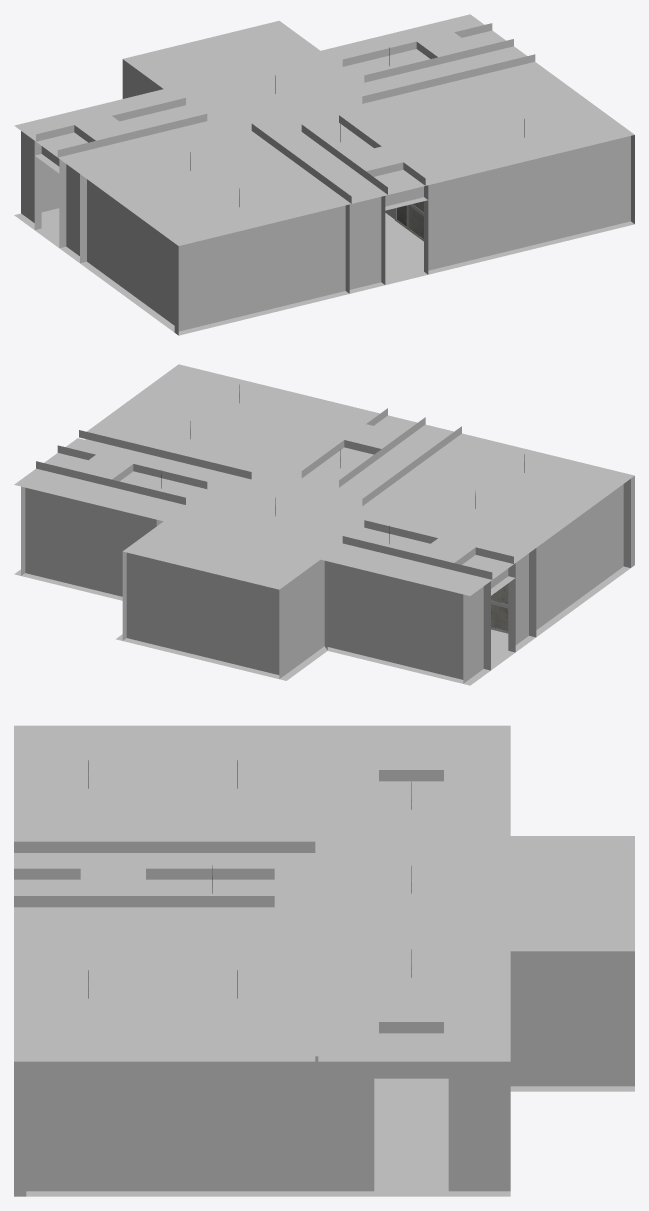
The model's file is room3_EzOffice2.fbx.
3 renders of one model, top to bottom at view 1: azimuth 30°, elevation 25°; view 2: azimuth 150°, elevation 25°; view 3: azimuth 270°, elevation 25°, orthographic. The views are drawn at different scales.
Parts seen in each view (by area): view 1: room3_EzOffice2; view 2: room3_EzOffice2; view 3: room3_EzOffice2.
Part boxes in pixels (<box>): room3_EzOffice2: <box>14,14,634,335</box>; room3_EzOffice2: <box>14,364,634,685</box>; room3_EzOffice2: <box>14,725,634,1196</box>.
Size of the model in its own units: 20.48 by 4.65 by 16.
